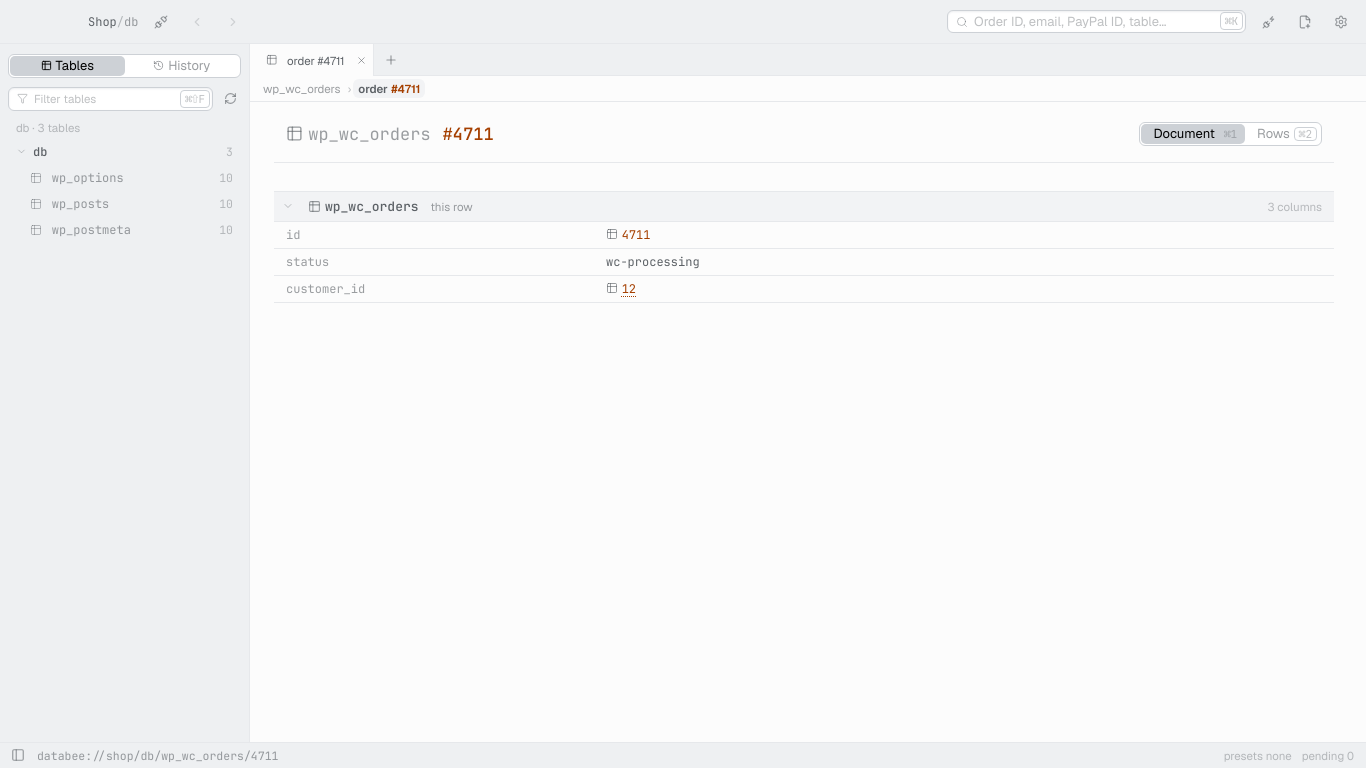
column stack › reference clicks › drills a new column when the reference is clicked
expect the element showing "db 3 wp_options 10 wp_posts 10 wp_postmeta 10" is shown: met, box [16,144,233,238]
expect the element named "Object header" is shown: met, box [274,102,1334,163]
Step 1. Click the link "12" → x=621, y=289, box [606,281,636,297]
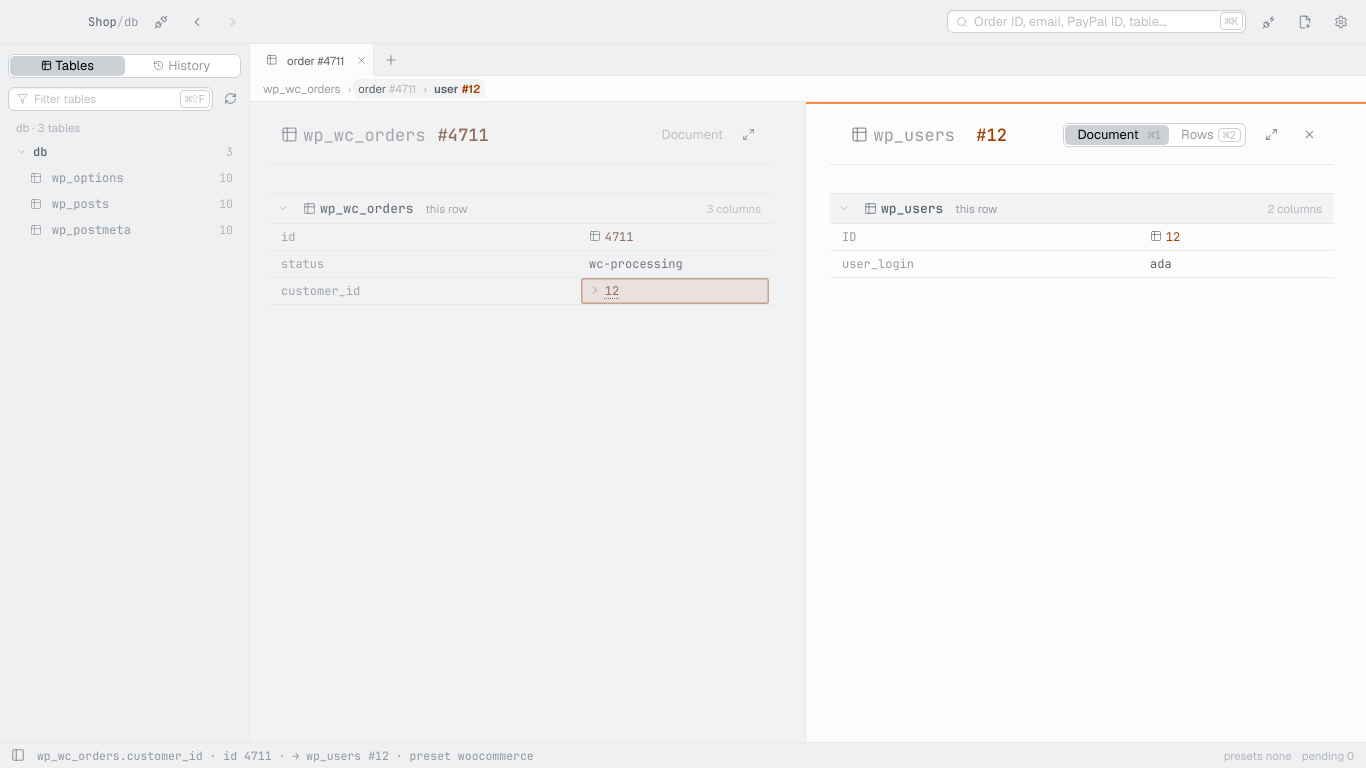
expect the element "wp_wc_orders #4711" is shown: met, box [250,102,805,742]
expect the element "wp_users #12" is shown: met, box [806,102,1365,742]
